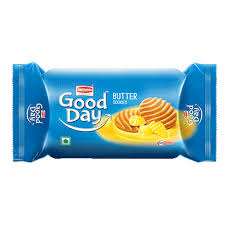gooday-small-butter: (14, 65, 218, 162)
